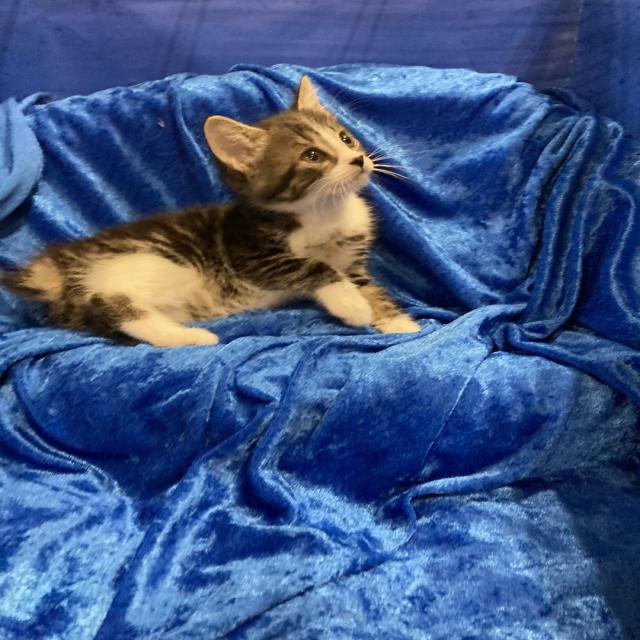manx_cat: (185, 70, 408, 225)
